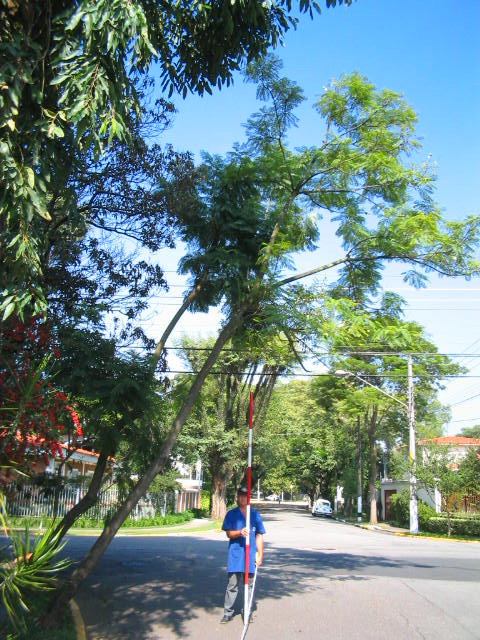stem: (51, 332, 234, 626)
stick: (240, 392, 258, 626)
tree: (48, 77, 477, 626)
